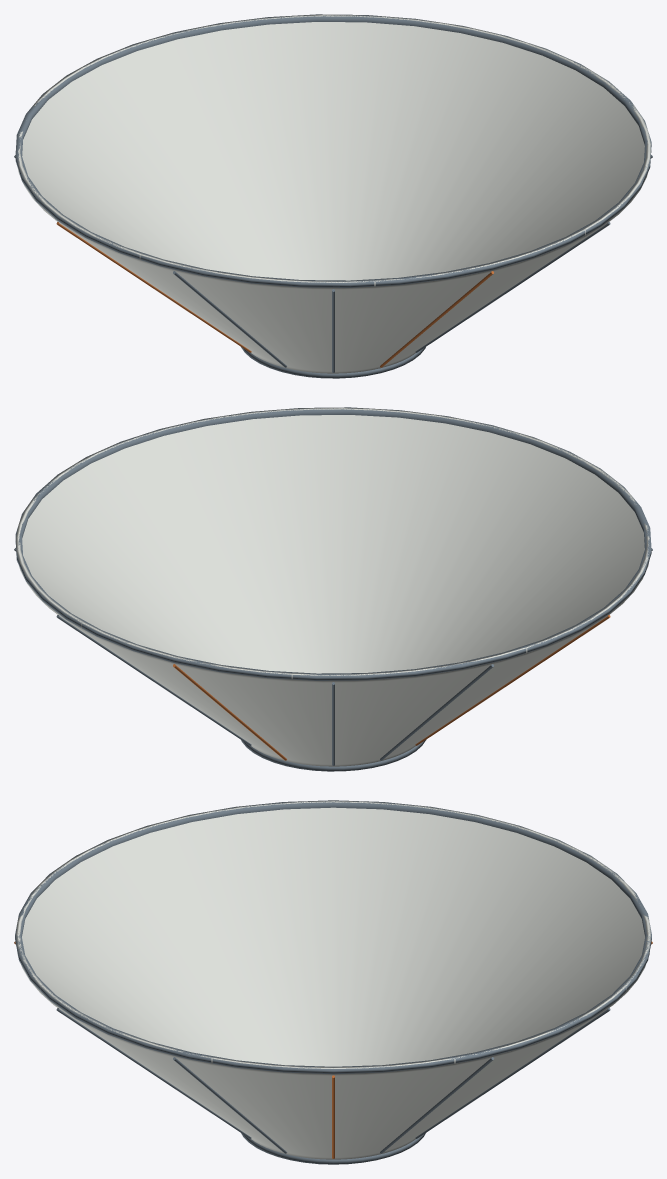
The model's file is jugre_adapter_250_841.glb.
3 renders of one model, top to bottom at view 1: azimuth 30°, elevation 25°; view 2: azimuth 150°, elevation 25°; view 3: azimuth 270°, elevation 25°, orthographic.
Visible parts, largest first — view 1: jugre_adapter_250_841.mesh_Pale_thermal_blanket, jugre_adapter_250_841.mesh_Machined_steel, jugre_adapter_250_841.mesh_Spray-on_insulation; view 2: jugre_adapter_250_841.mesh_Pale_thermal_blanket, jugre_adapter_250_841.mesh_Machined_steel, jugre_adapter_250_841.mesh_Spray-on_insulation; view 3: jugre_adapter_250_841.mesh_Pale_thermal_blanket, jugre_adapter_250_841.mesh_Machined_steel.
Part boxes in pixels (bbox=[...]): jugre_adapter_250_841.mesh_Pale_thermal_blanket: bbox=[17, 14, 650, 373]; jugre_adapter_250_841.mesh_Machined_steel: bbox=[14, 14, 652, 378]; jugre_adapter_250_841.mesh_Spray-on_insulation: bbox=[56, 222, 493, 367]; jugre_adapter_250_841.mesh_Pale_thermal_blanket: bbox=[16, 407, 649, 766]; jugre_adapter_250_841.mesh_Machined_steel: bbox=[14, 407, 652, 771]; jugre_adapter_250_841.mesh_Spray-on_insulation: bbox=[173, 615, 610, 760]; jugre_adapter_250_841.mesh_Pale_thermal_blanket: bbox=[16, 800, 650, 1159]; jugre_adapter_250_841.mesh_Machined_steel: bbox=[15, 800, 651, 1164].
Bounding box in the file's own units: 8.46 × 2.77 × 8.46.
